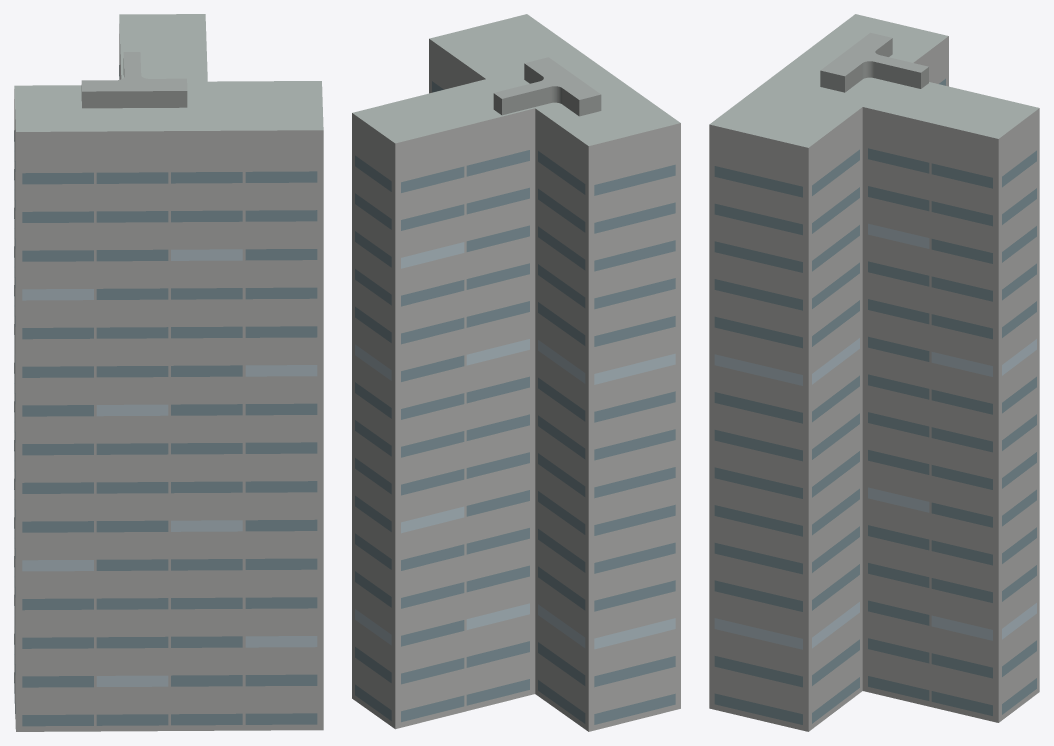
File: fallback-prestige-113.glb
The picture shows the model from 3 angles, left to right: view 1: azimuth 30°, elevation 25°; view 2: azimuth 150°, elevation 25°; view 3: azimuth 270°, elevation 25°; orthographic projection. The views are drawn at different scales.
Parts seen in each view (by area): view 1: fallback-prestige-113; view 2: fallback-prestige-113; view 3: fallback-prestige-113.
Boxes of the visible parts, x1=… form: fallback-prestige-113: x1=14, y1=14, x2=323, y2=731; fallback-prestige-113: x1=352, y1=14, x2=680, y2=731; fallback-prestige-113: x1=709, y1=14, x2=1039, y2=731.
Size of the model in its own units: 42.1 by 88 by 43.88.
